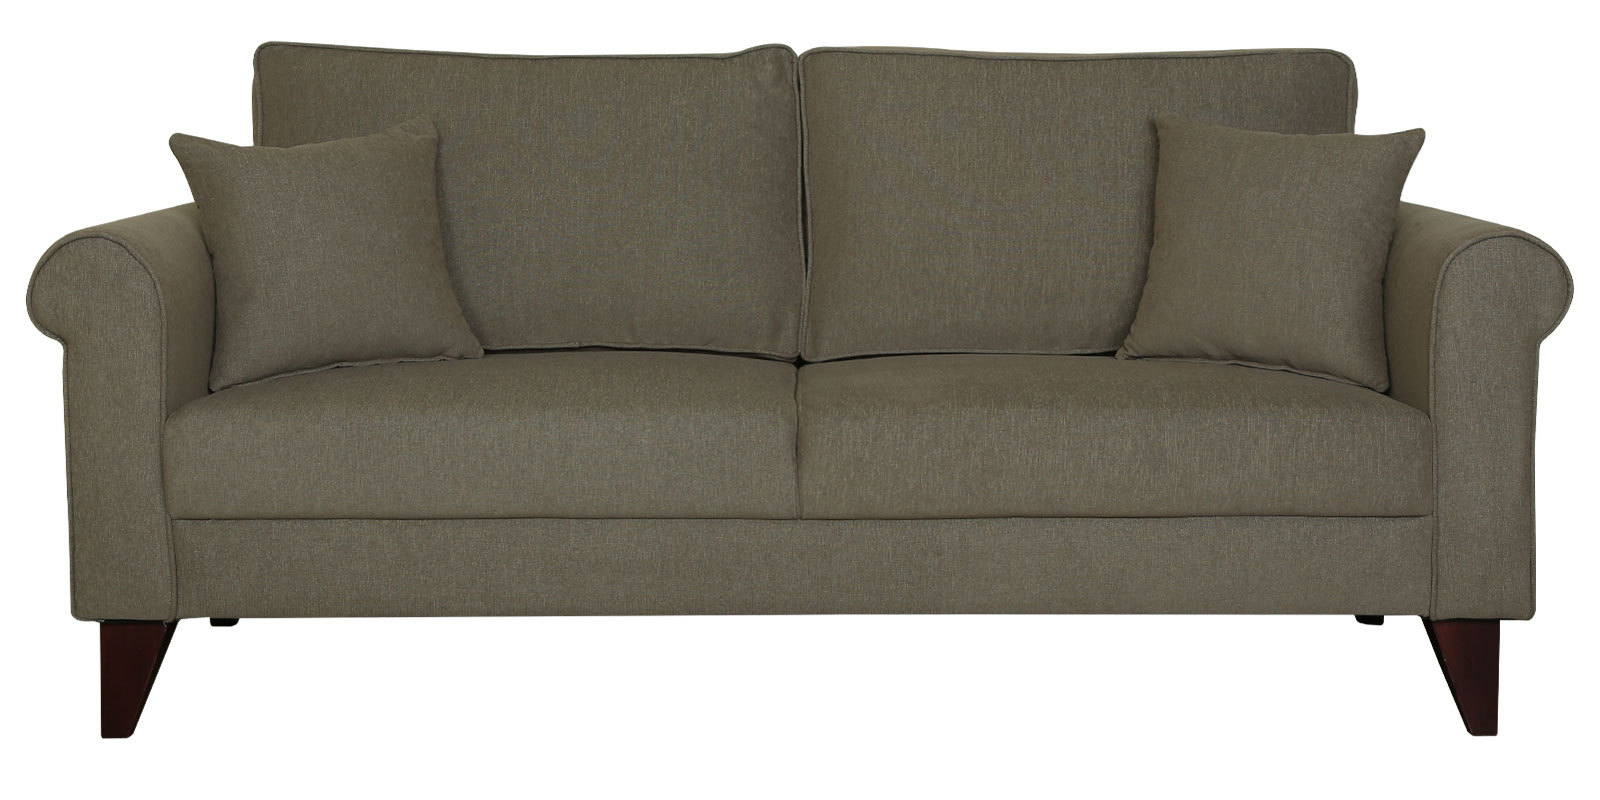Fuego Three Seater Sofa in Sandy Brown Colour by CasaCraft: (20, 24, 1586, 784)
